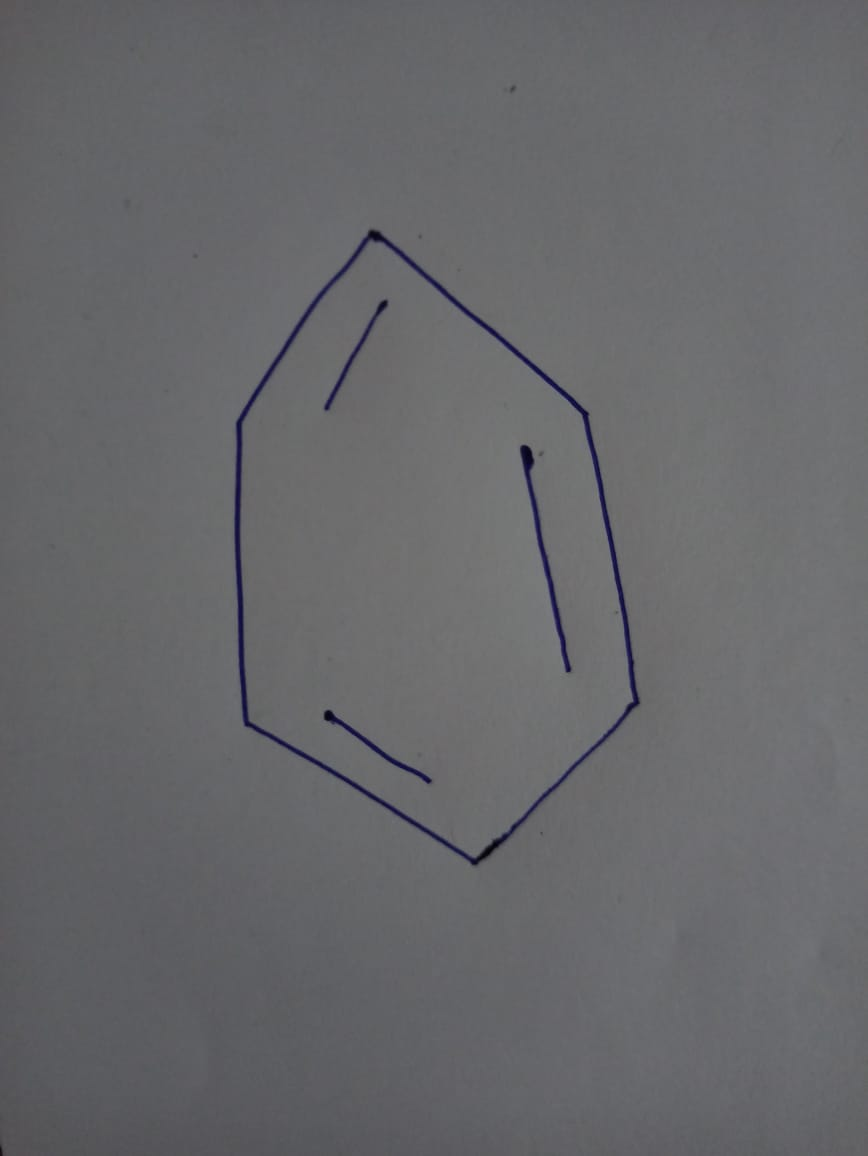shape_mask: (206, 202, 677, 875)
